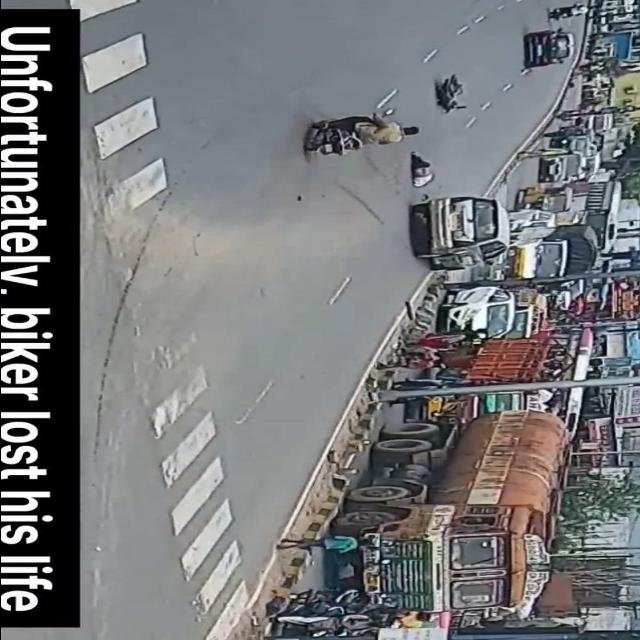accident: (396, 148, 514, 276), (428, 71, 480, 117)
non_accident: (265, 405, 576, 640), (392, 284, 604, 404), (540, 0, 640, 191), (469, 190, 611, 280)
